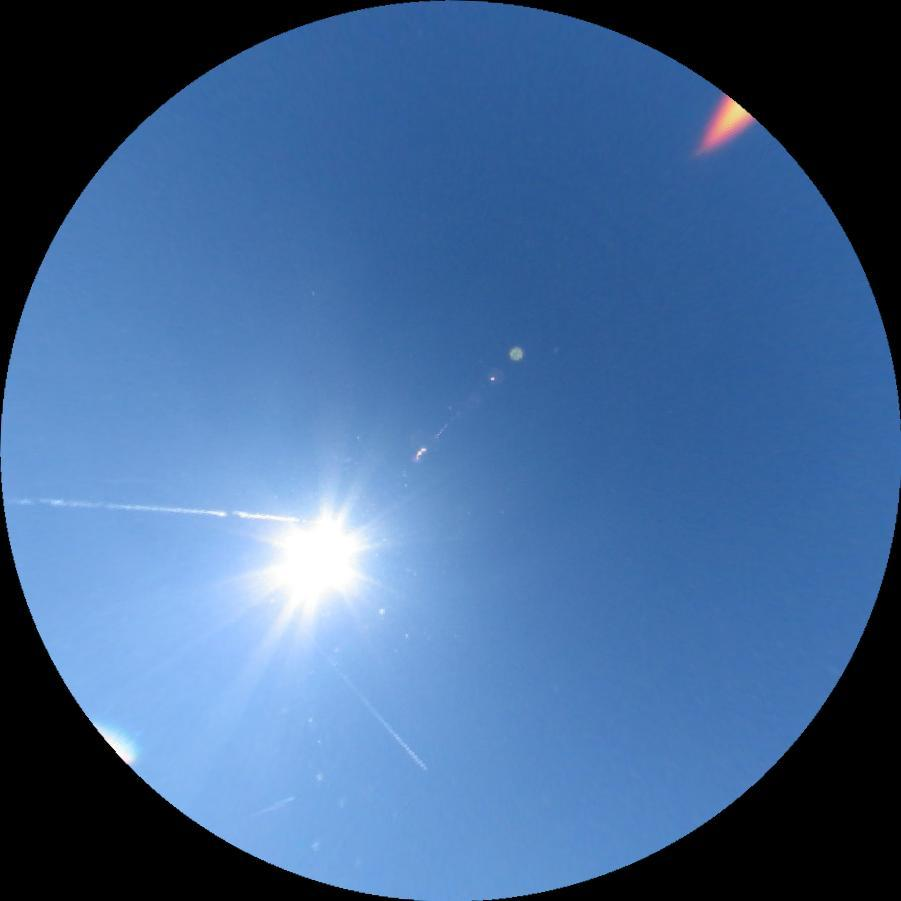contrail young: (312, 643, 428, 774), (248, 793, 295, 822)
parasite: (4, 492, 302, 521)
sun: (252, 499, 377, 618)
